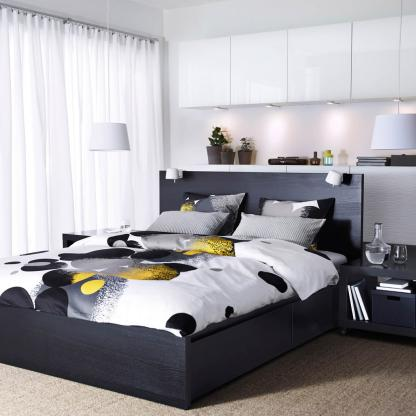Bed: (0, 169, 366, 412)
